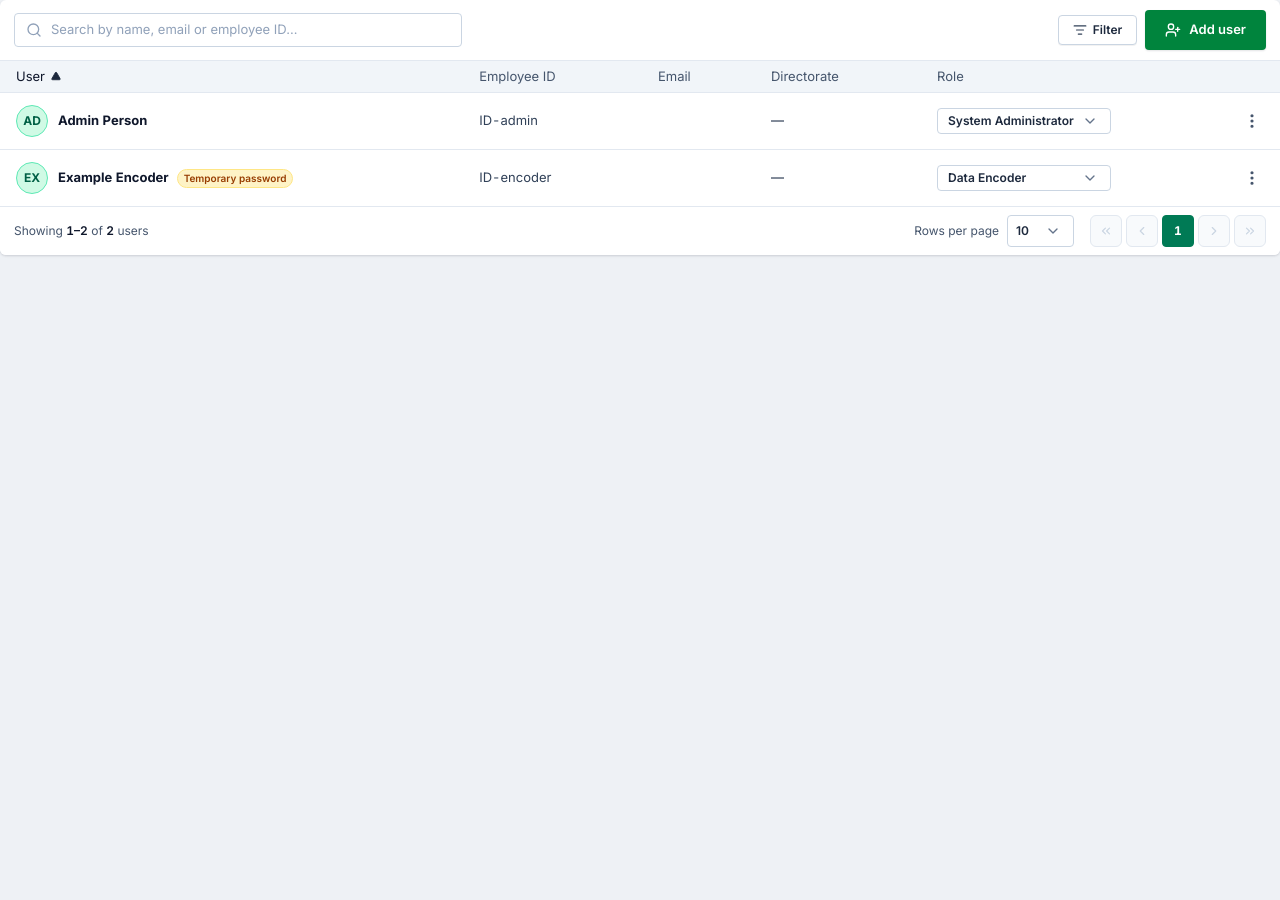
Test case: Users page: sign-in access › deactivates a user from the row menu with confirmation
Click the button named "Actions for Example Encoder" at [1252, 178], box x1=1236 y1=162 x2=1268 y2=194
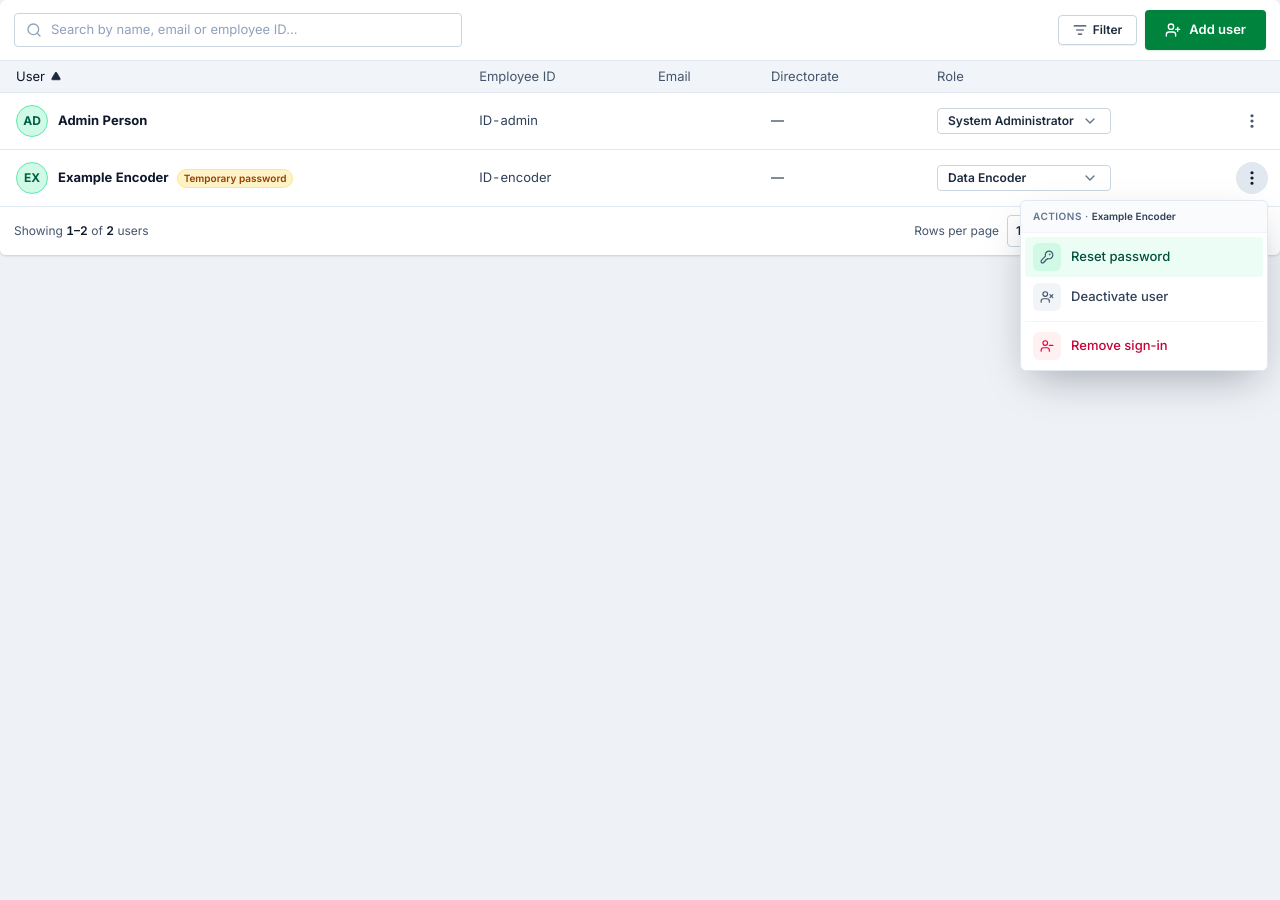
Click the menu item "Deactivate user" at [1144, 297], box x1=1025 y1=277 x2=1263 y2=317
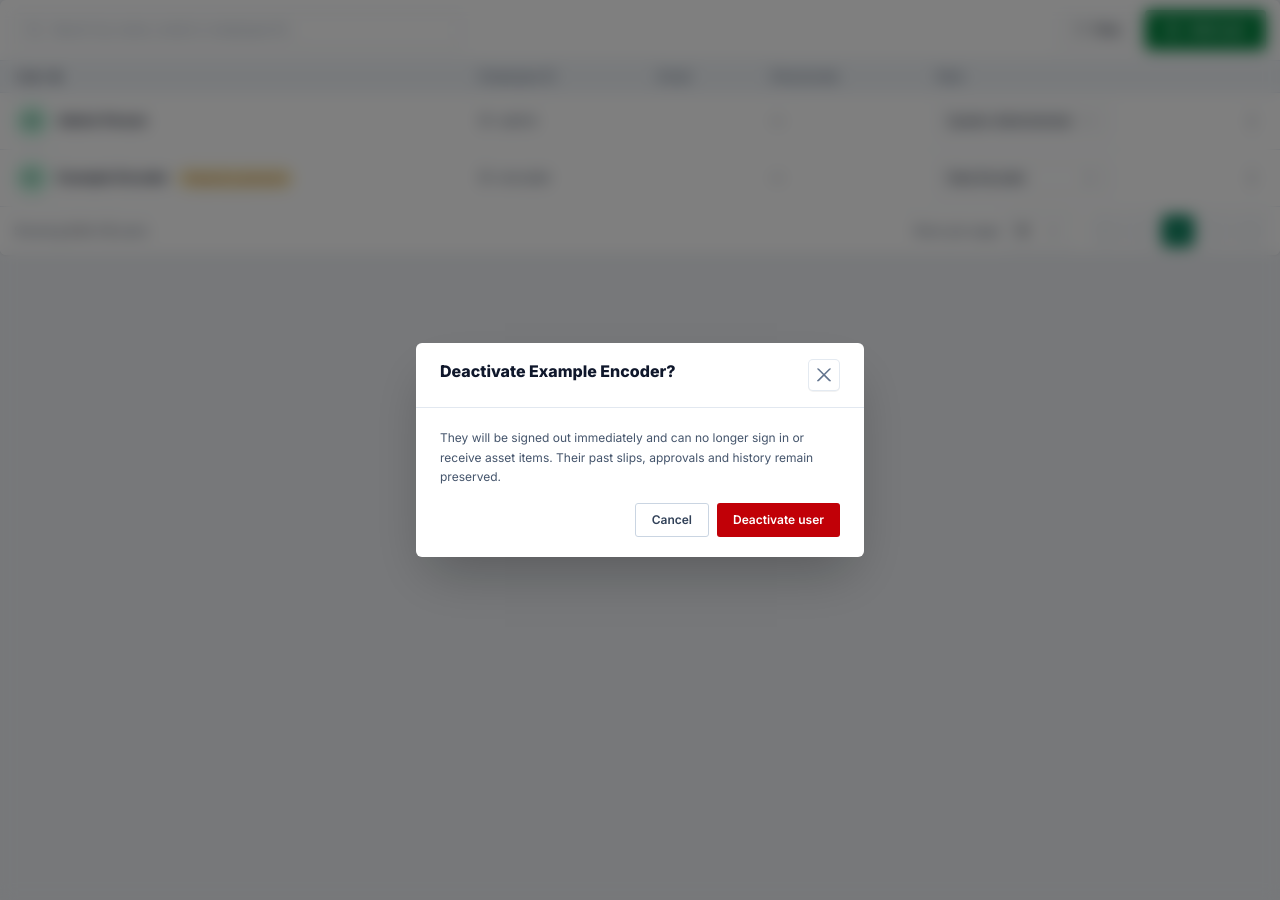
Result: the heading "Deactivate Example Encoder?" is shown at x1=440 y1=359 x2=676 y2=383
Click the button "Deactivate user" at [778, 520], box x1=717 y1=503 x2=840 y2=537
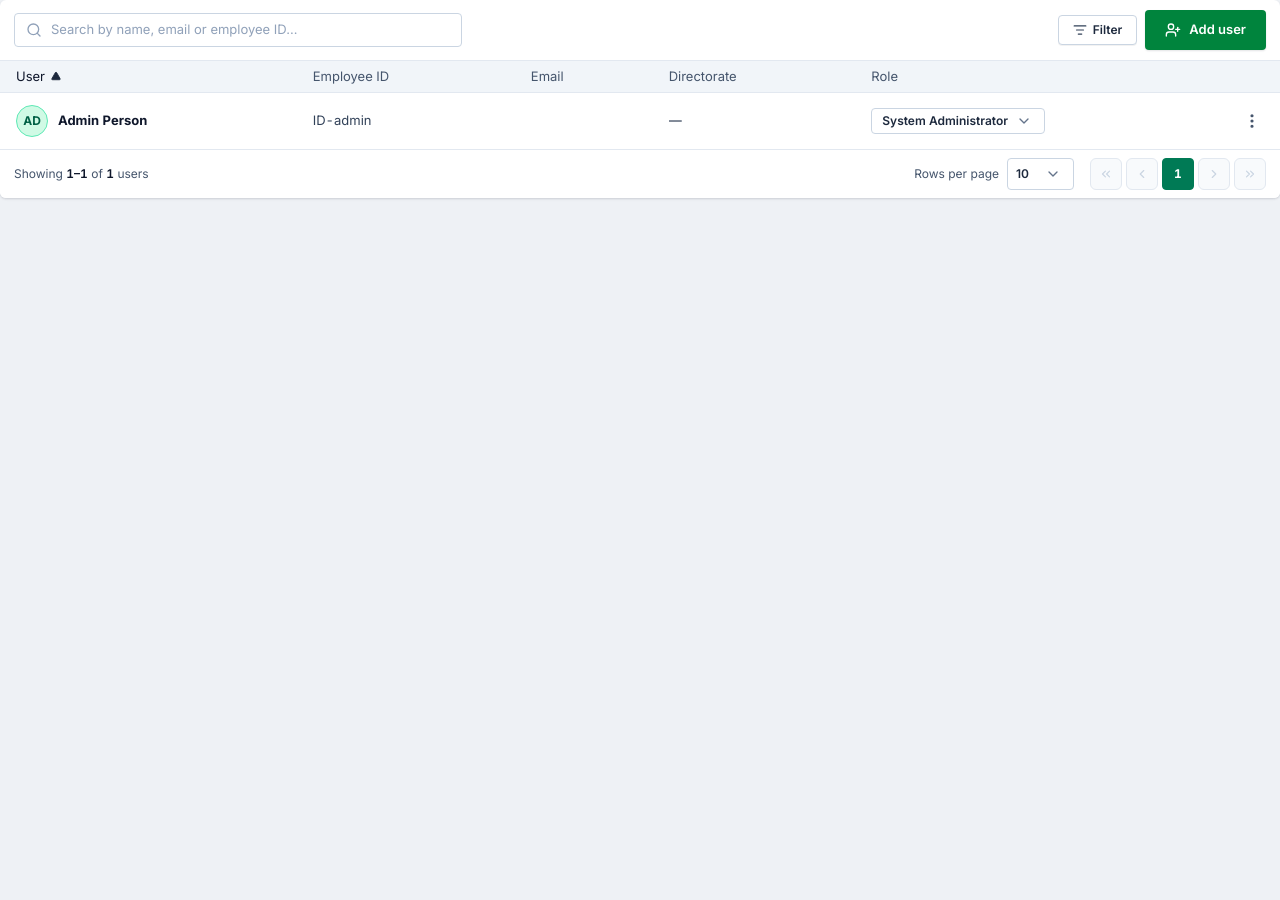
Result: the text "Example Encoder" is gone
